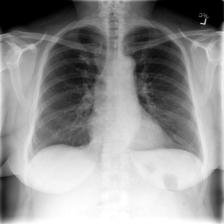normal: (25, 20, 207, 167)
